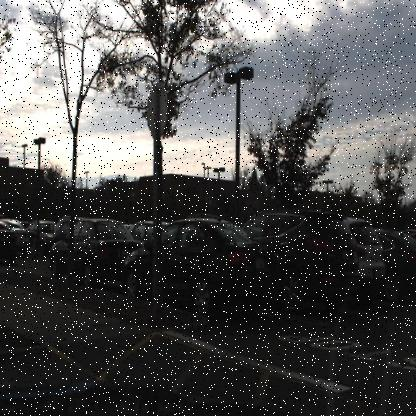car: (120, 215, 276, 310), (256, 206, 359, 312), (48, 218, 145, 284), (344, 212, 386, 304), (380, 224, 414, 307), (0, 218, 30, 260), (27, 220, 58, 254)
